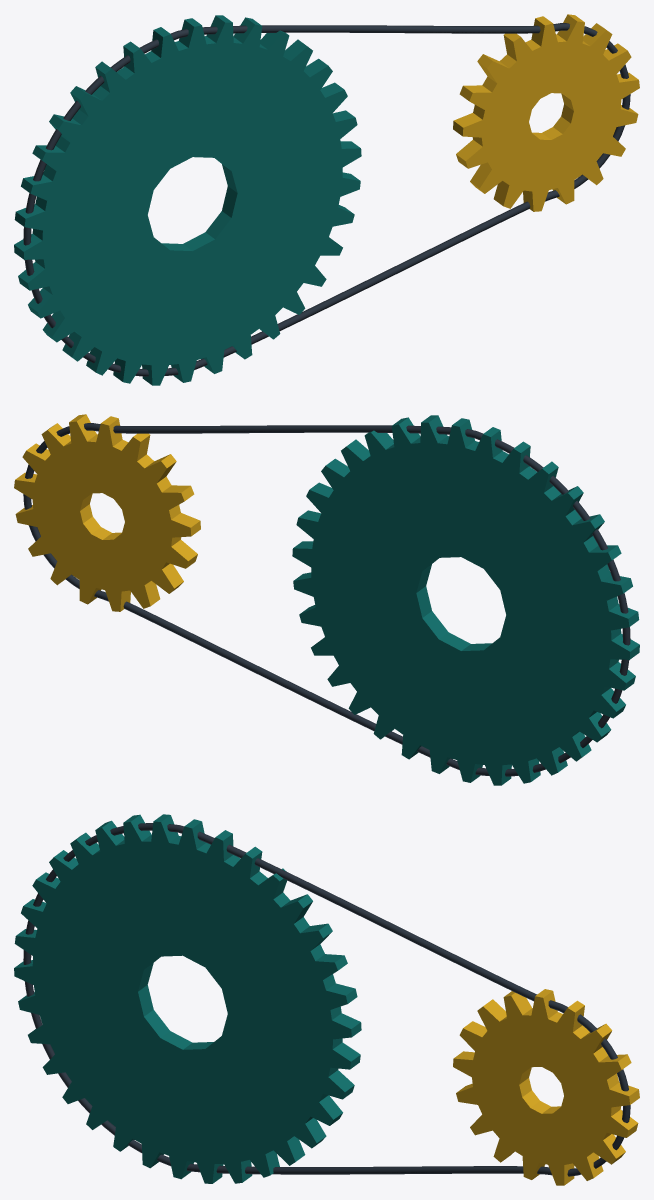
The model's file is gears.glb.
3 views of the same model, one above another, from view 1: azimuth 30°, elevation 25°; view 2: azimuth 150°, elevation 25°; view 3: azimuth 330°, elevation 25° (orthographic).
Visible parts, largest first — view 1: chainring, cog, chain; view 2: chainring, cog, chain; view 3: chainring, cog, chain.
Part boxes in pixels (x1,y1,x2,y2): chainring: [14, 15, 361, 385]; cog: [453, 14, 639, 211]; chain: [23, 23, 630, 376]; chainring: [292, 415, 639, 785]; cog: [14, 414, 200, 611]; chain: [23, 423, 630, 776]; chainring: [14, 814, 361, 1183]; cog: [453, 989, 639, 1185]; chain: [23, 823, 630, 1176].
Size of the model in its own units: 6.53 by 3.58 by 0.18.
